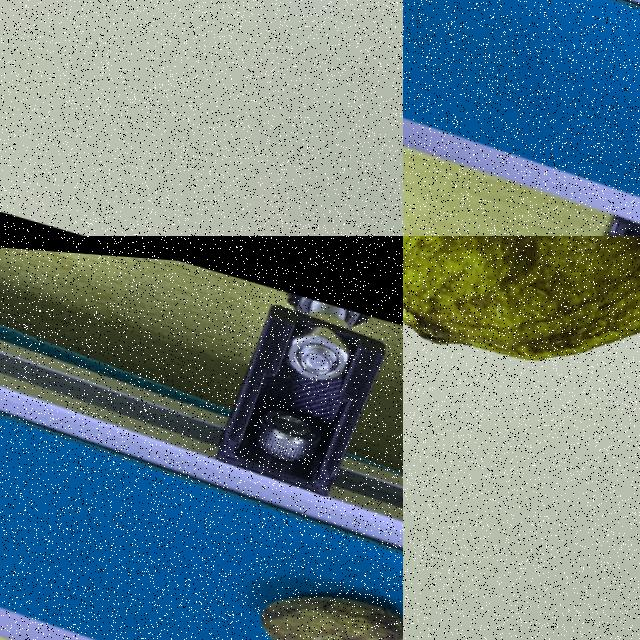Agglomerated_cocoabeans: (403, 236, 639, 454), (118, 0, 402, 77)
Fine_cocoabeans: (157, 489, 402, 639)
